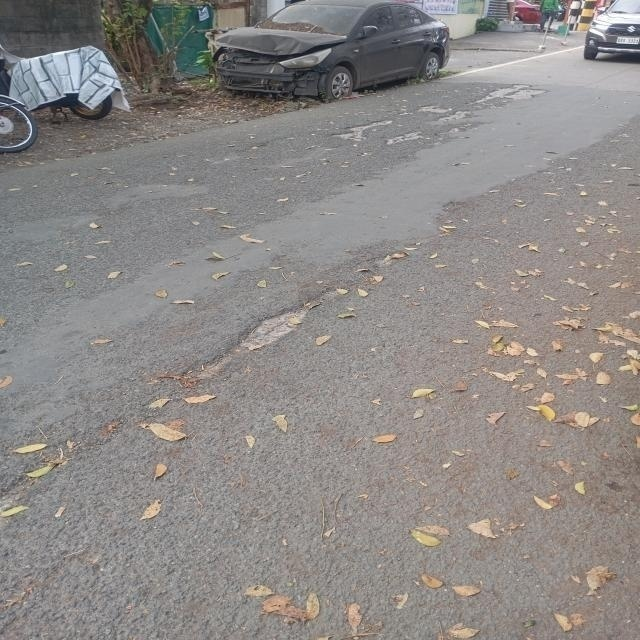pothole: (147, 217, 430, 426), (470, 77, 554, 107), (332, 114, 404, 146), (411, 102, 482, 132)
